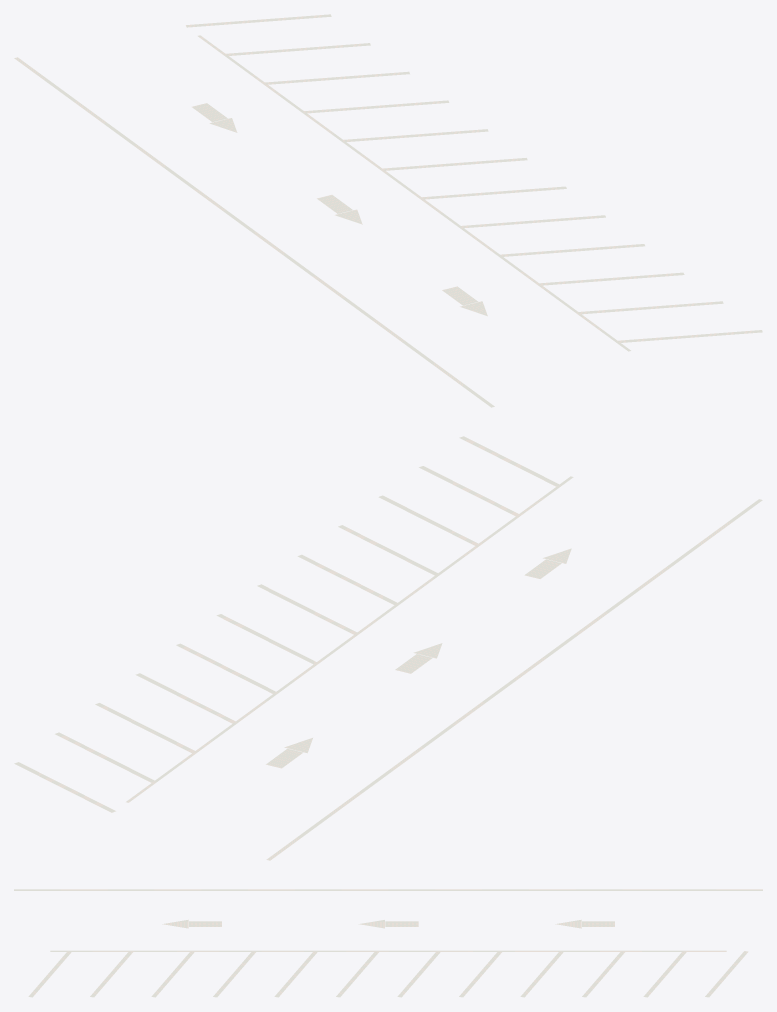
Rendered from lot_stall_lines.glb.
3 views of the same model, one above another, from view 1: azimuth 30°, elevation 25°; view 2: azimuth 150°, elevation 25°; view 3: azimuth 270°, elevation 25° (orthographic). The views are drawn at different scales.
Visible parts, largest first — view 1: lot_stall_lines; view 2: lot_stall_lines; view 3: lot_stall_lines.
Part boxes in pixels (x1,y1,x2,y2): lot_stall_lines: (14,14,762,407); lot_stall_lines: (14,436,762,860); lot_stall_lines: (14,889,762,997).
Bounding box in the file's own units: 11.07 × 0.004 × 32.4.
1 material, 1 textured.
